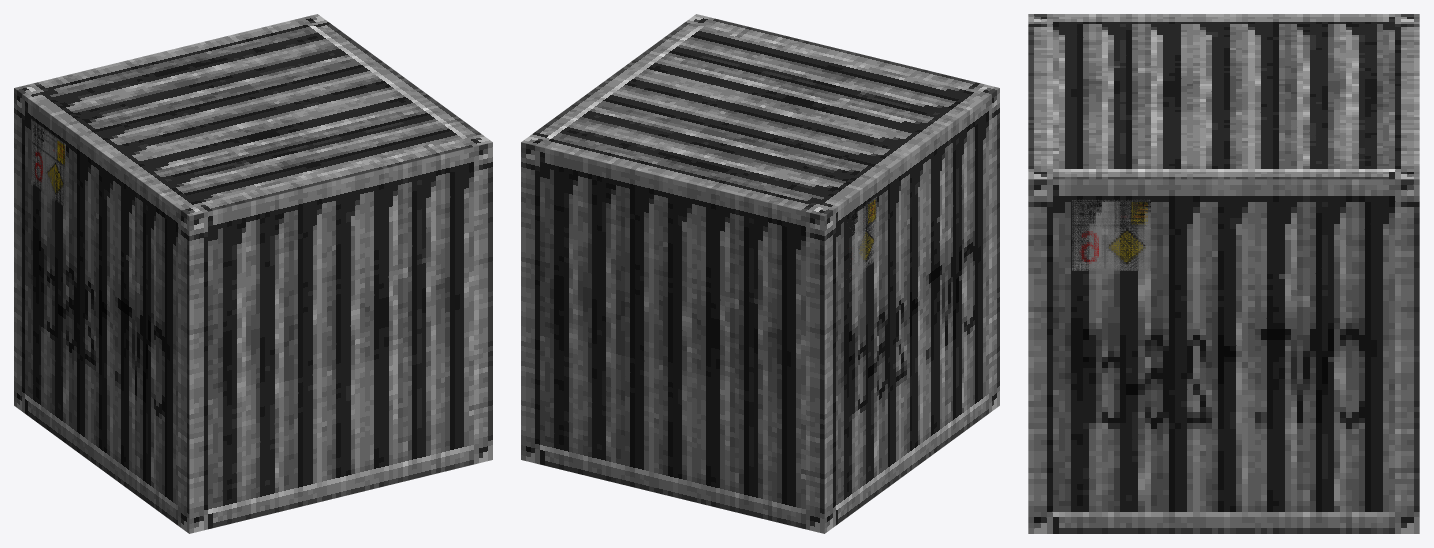
File: primary_023.glb
3 views of the same model, side by side, from view 1: azimuth 30°, elevation 25°; view 2: azimuth 150°, elevation 25°; view 3: azimuth 270°, elevation 25° (orthographic). The views are drawn at different scales.
Visible parts, largest first — view 1: Object; view 2: Object; view 3: Object.
Part boxes in pixels (left/top/right/bottom): Object: left=14, top=14, right=492, bottom=533; Object: left=521, top=14, right=999, bottom=533; Object: left=1028, top=14, right=1419, bottom=533.
Bounding box in the file's own units: 1.32 × 1.32 × 1.32.
Materials: 3 (3 with a texture image).
